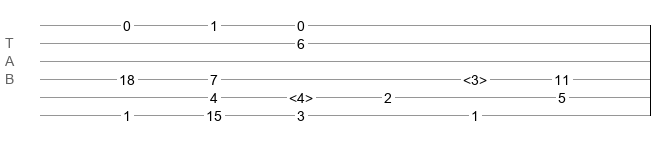0: (123, 18, 131, 28), (297, 18, 305, 28)
1: (123, 108, 131, 118), (210, 18, 218, 28), (471, 108, 479, 118)
11: (554, 72, 570, 82)
15: (206, 108, 222, 118)
18: (119, 72, 135, 82)
2: (384, 90, 392, 100)
3: (297, 108, 305, 118)
4: (210, 90, 218, 100)
5: (558, 90, 566, 100)
6: (297, 36, 305, 46)
7: (210, 72, 218, 82)
harmonic: (289, 90, 313, 100), (463, 72, 487, 82)
